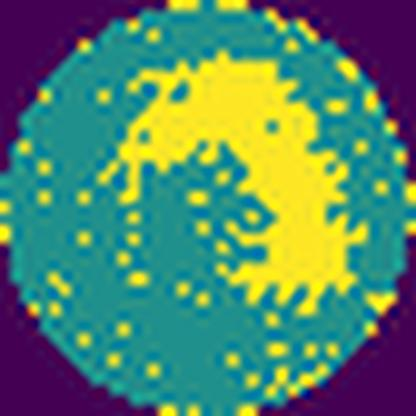Donut: (93, 44, 372, 318)
